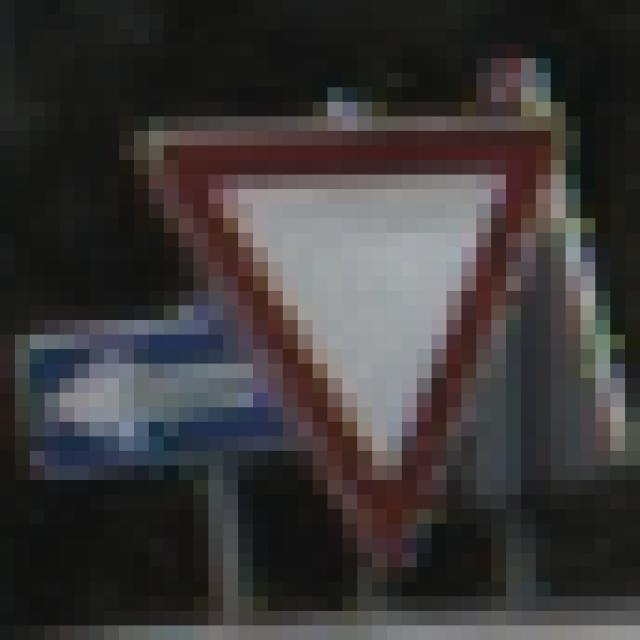Give Way: (90, 89, 552, 569)
